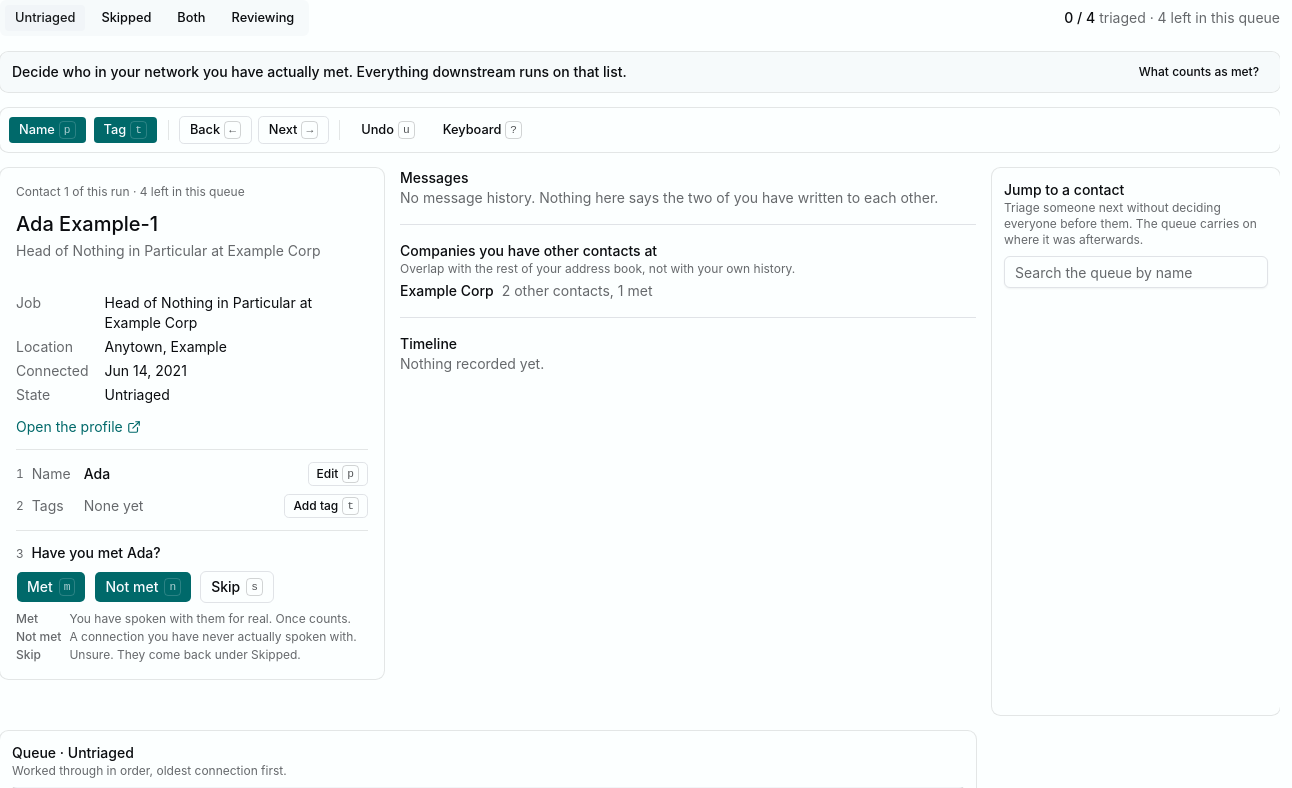
Test: the explainer above the card › renders when storage throws the way a private window does
Expected: the element with test id "triage-explainer" shows "Decide who in your network you have actually met", [12,63,627,80]
And opening it still works for as long as the page is open.
Click the button "What counts as met?": (1199, 72) [1130,60,1268,84]
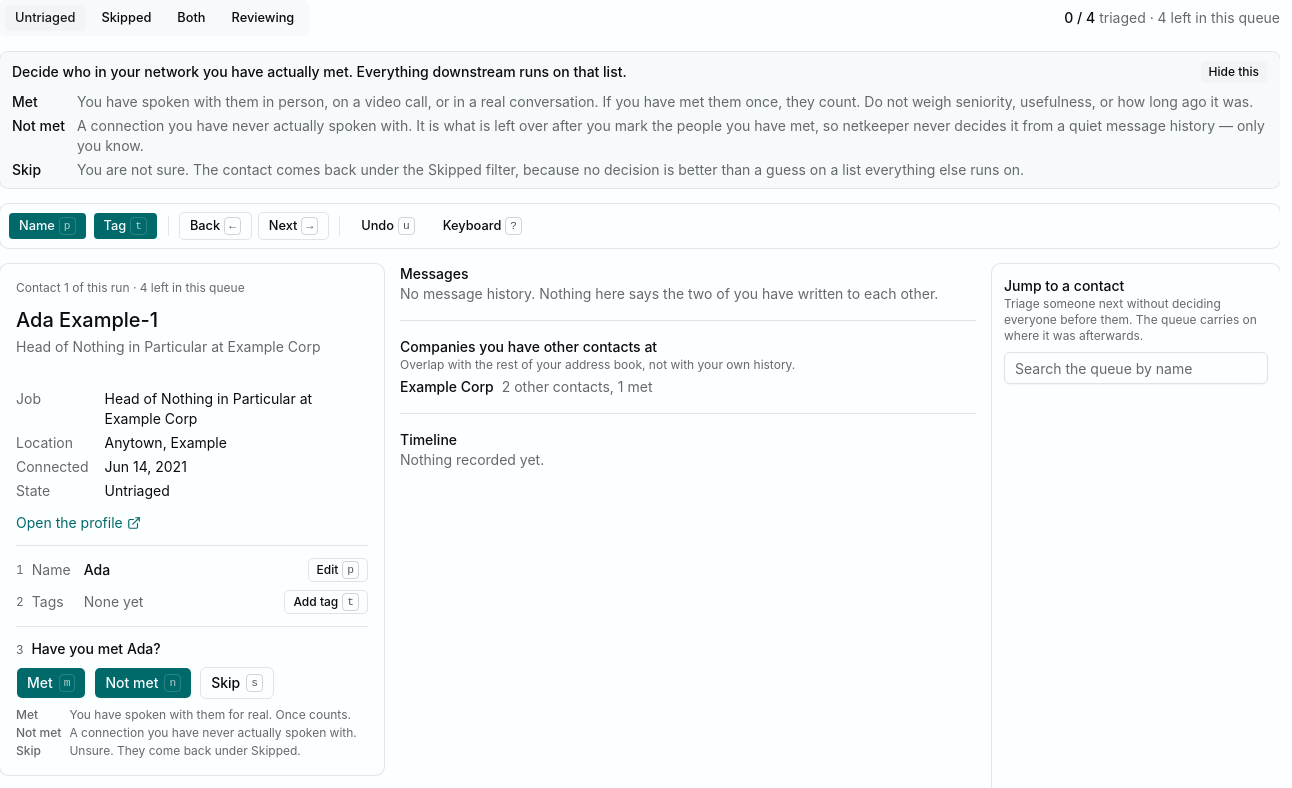
Result: the element with test id "triage-explainer" shows "If you have met them once, they count" at [77,93,1253,110]
